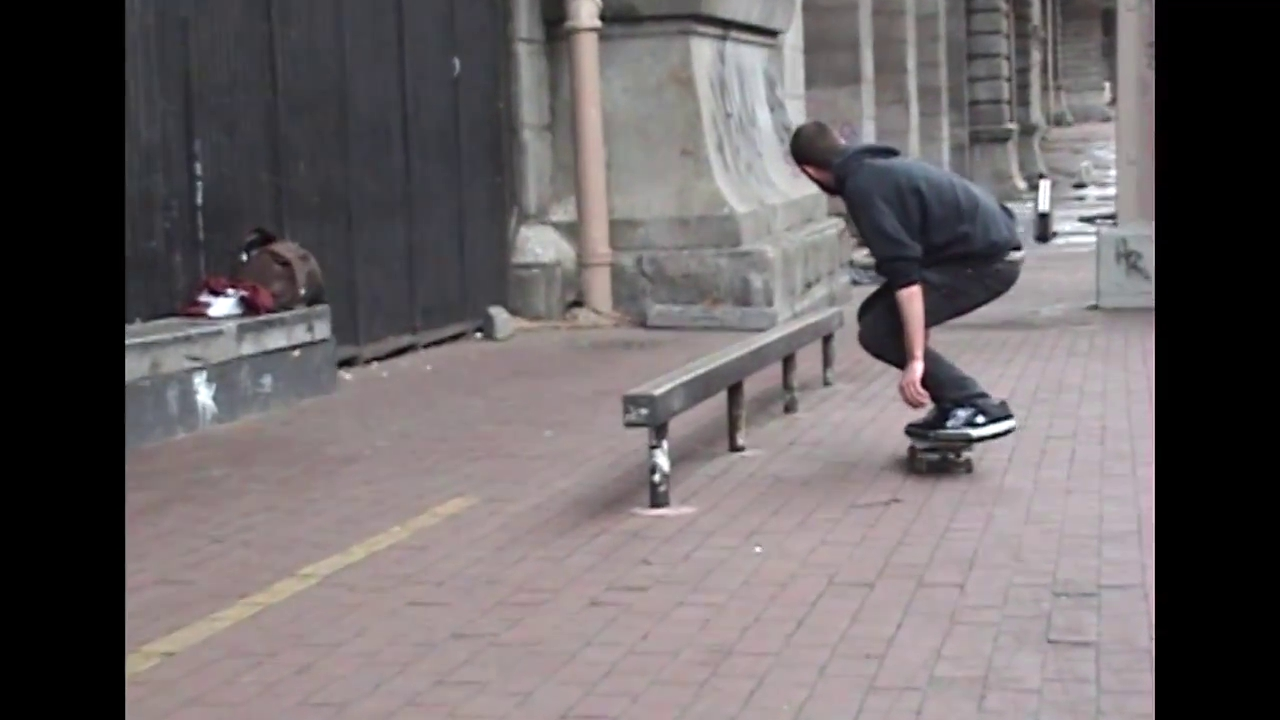person: (790, 121, 1026, 441)
